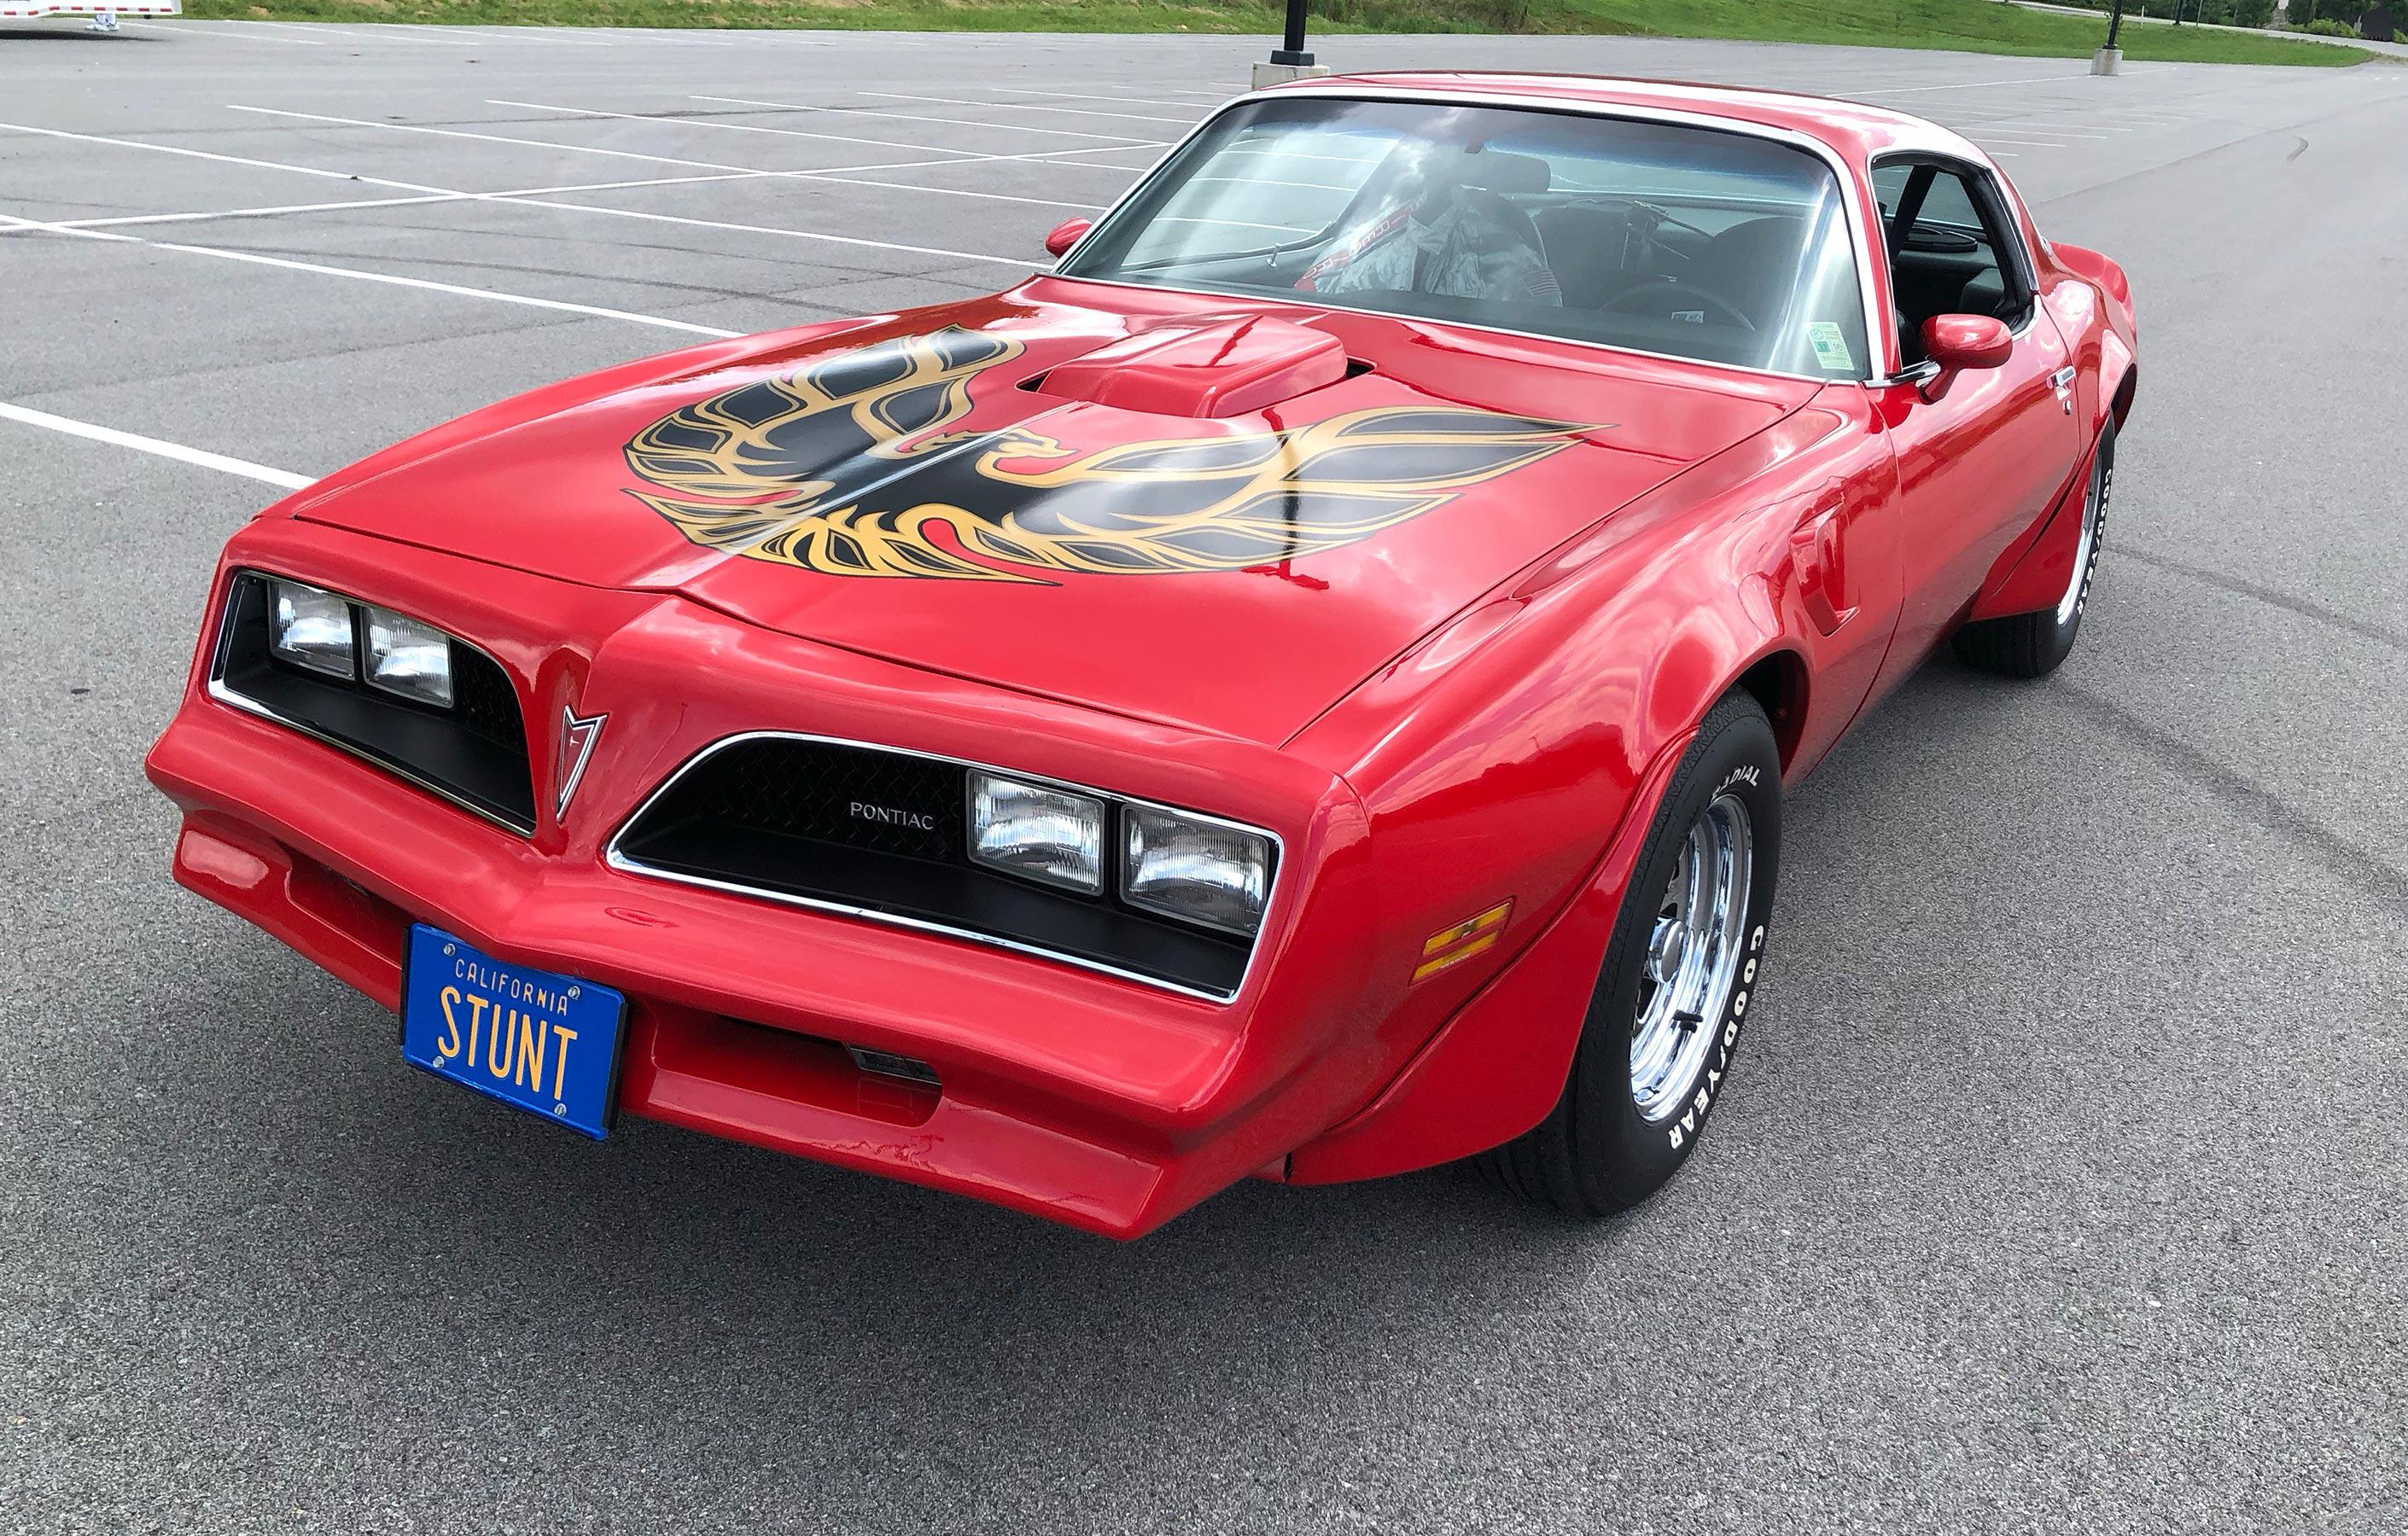car: (140, 63, 2199, 1285)
